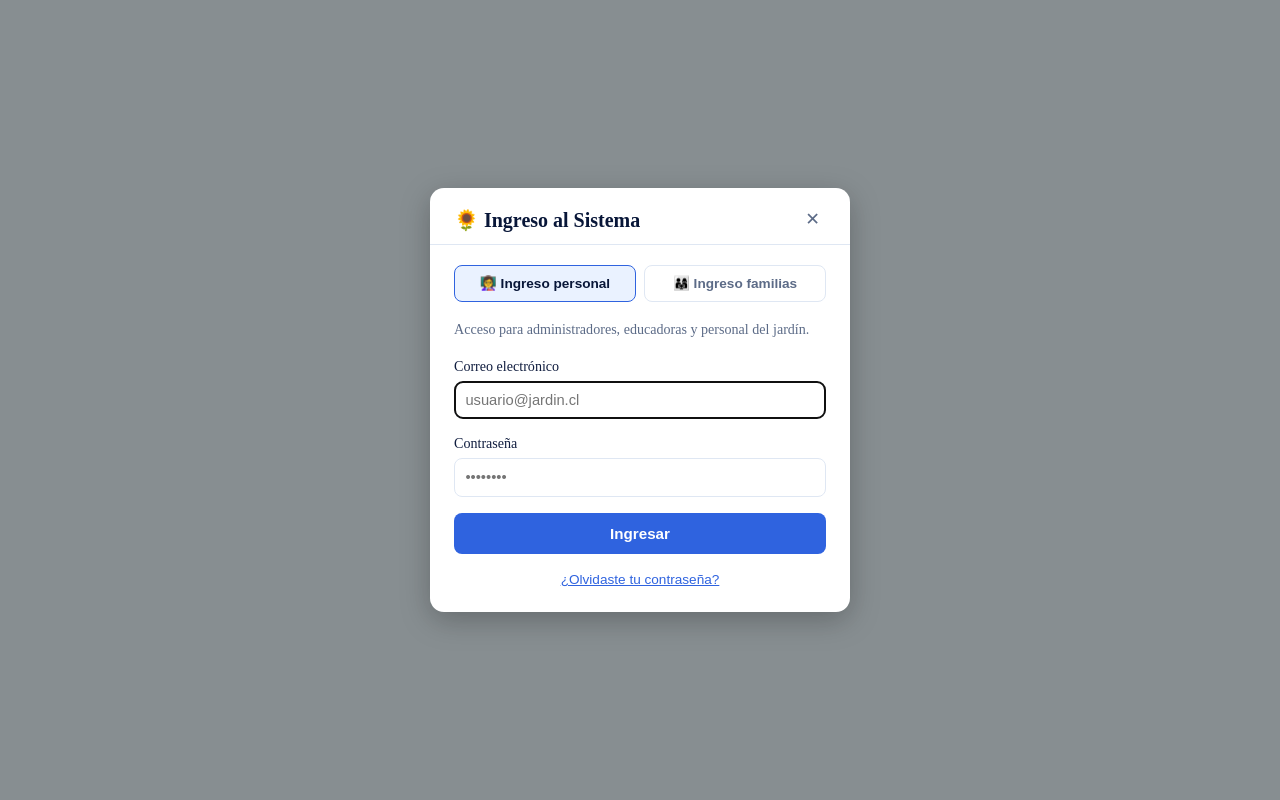
Test: LoginModal › el flujo de registro pide confirmar contraseña
Click the button "👨‍👩‍👧 Ingreso familias": (735, 283) [644, 265, 826, 302]
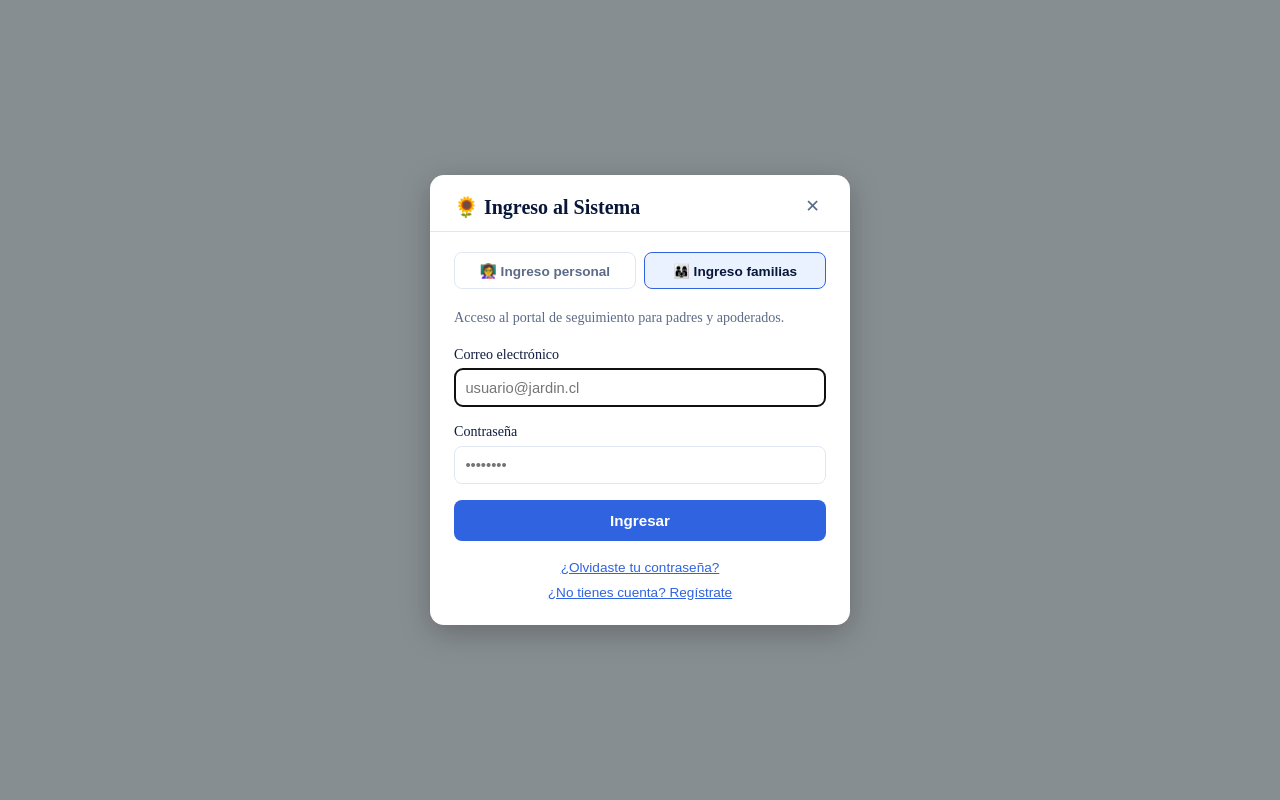
Click the button "¿No tienes cuenta? Regístrate": (640, 592) [542, 584, 738, 601]
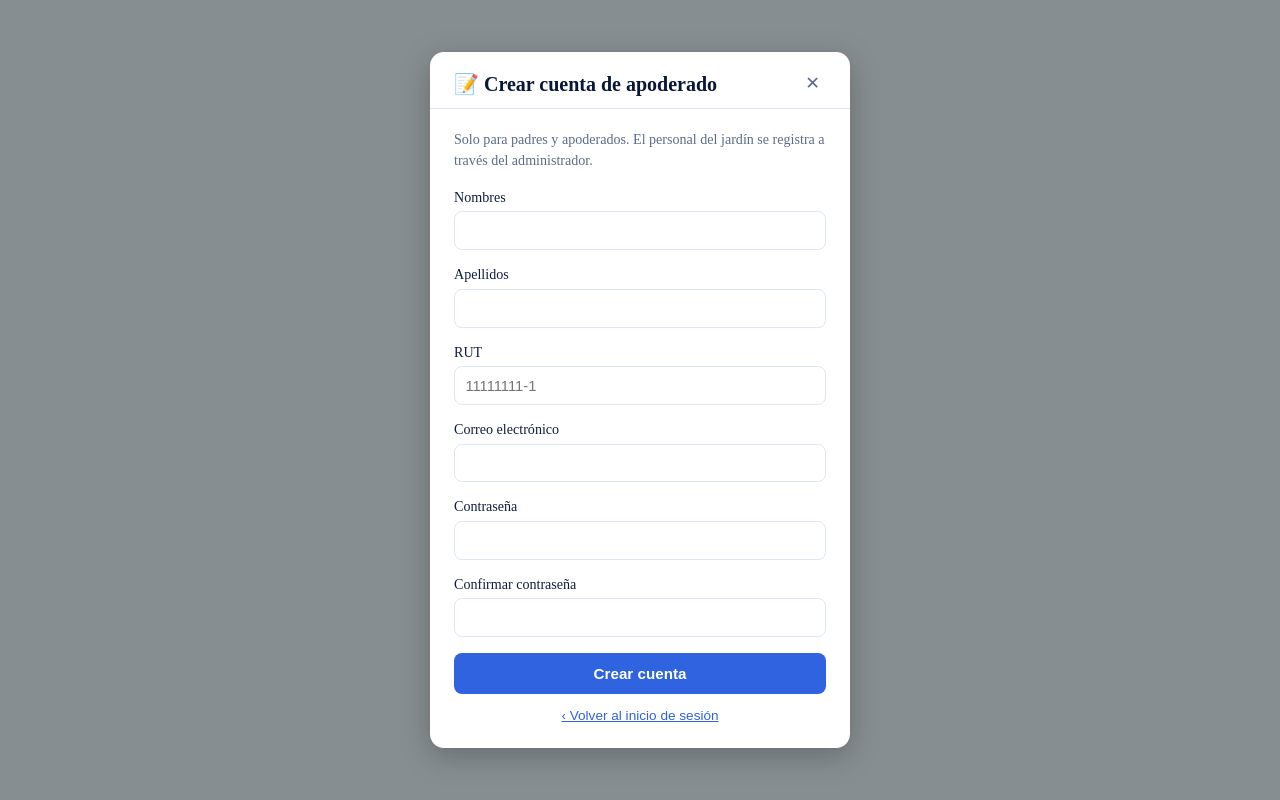
Expected: the button "Crear cuenta" is shown, [454, 653, 826, 694]
Expected: the password field labelled "Confirmar contraseña" is shown, [454, 598, 826, 637]
